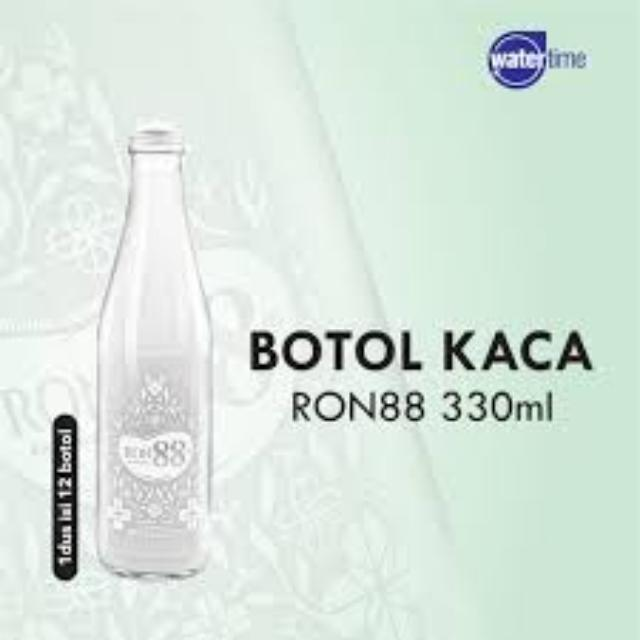trash: (91, 123, 217, 584)
